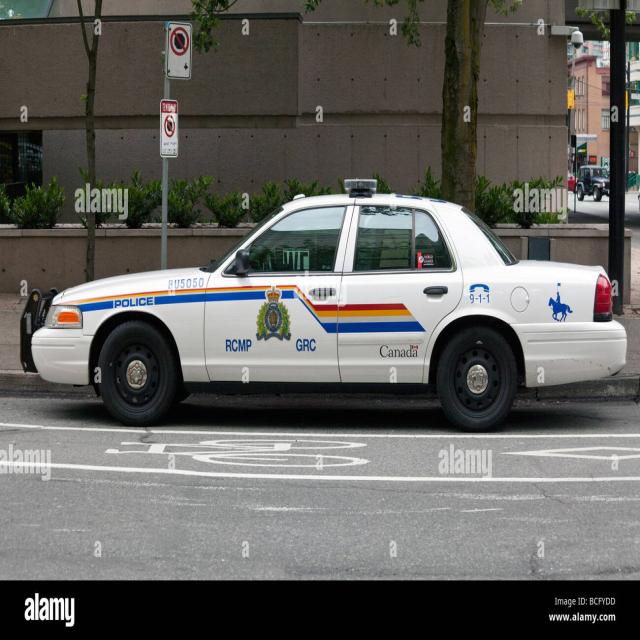cop: (16, 180, 629, 435)
